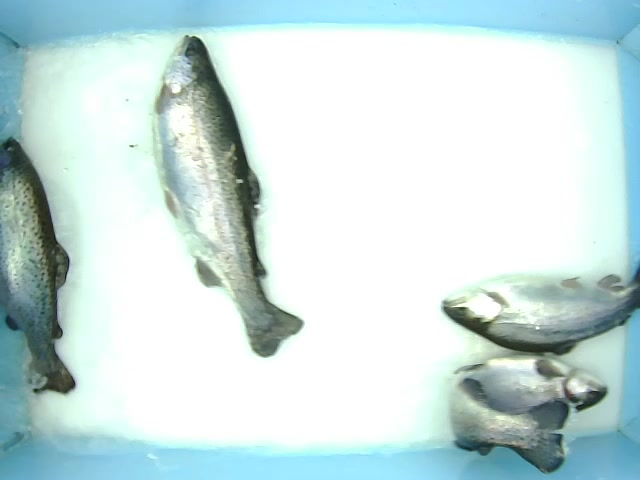fish: (149, 32, 306, 359), (438, 352, 613, 476), (1, 134, 77, 396), (437, 262, 640, 356)
